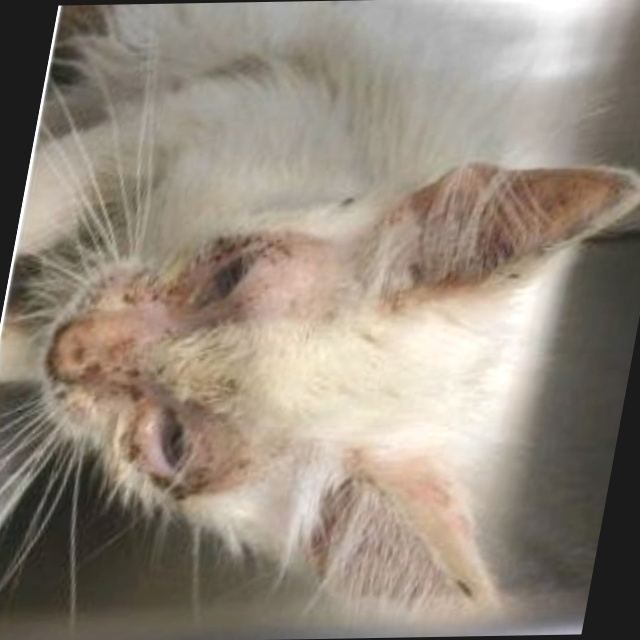ringworm: (216, 246, 313, 331), (73, 326, 164, 403), (182, 421, 269, 501), (132, 268, 212, 311)
